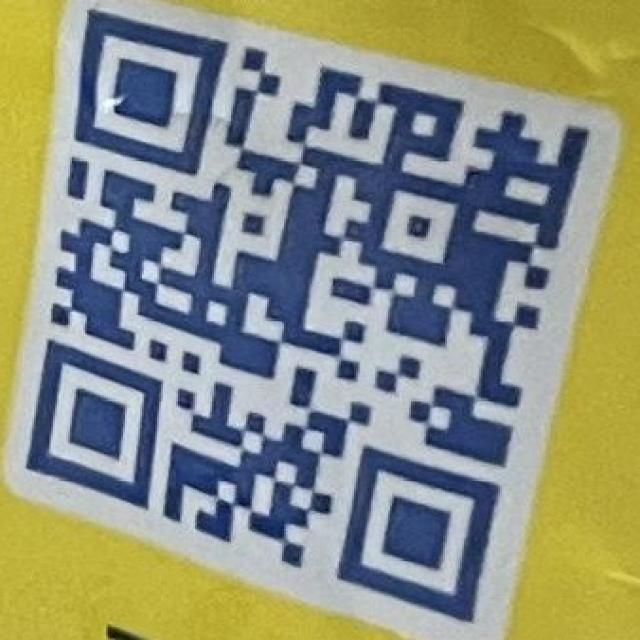QR_CODE: (24, 7, 587, 622)
